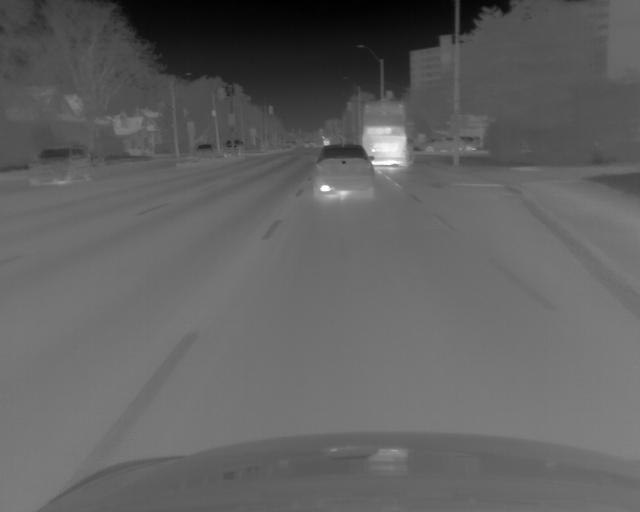car: (359, 98, 416, 169), (314, 144, 376, 201), (26, 145, 95, 188), (418, 134, 471, 153), (194, 142, 216, 162), (224, 140, 244, 156)
